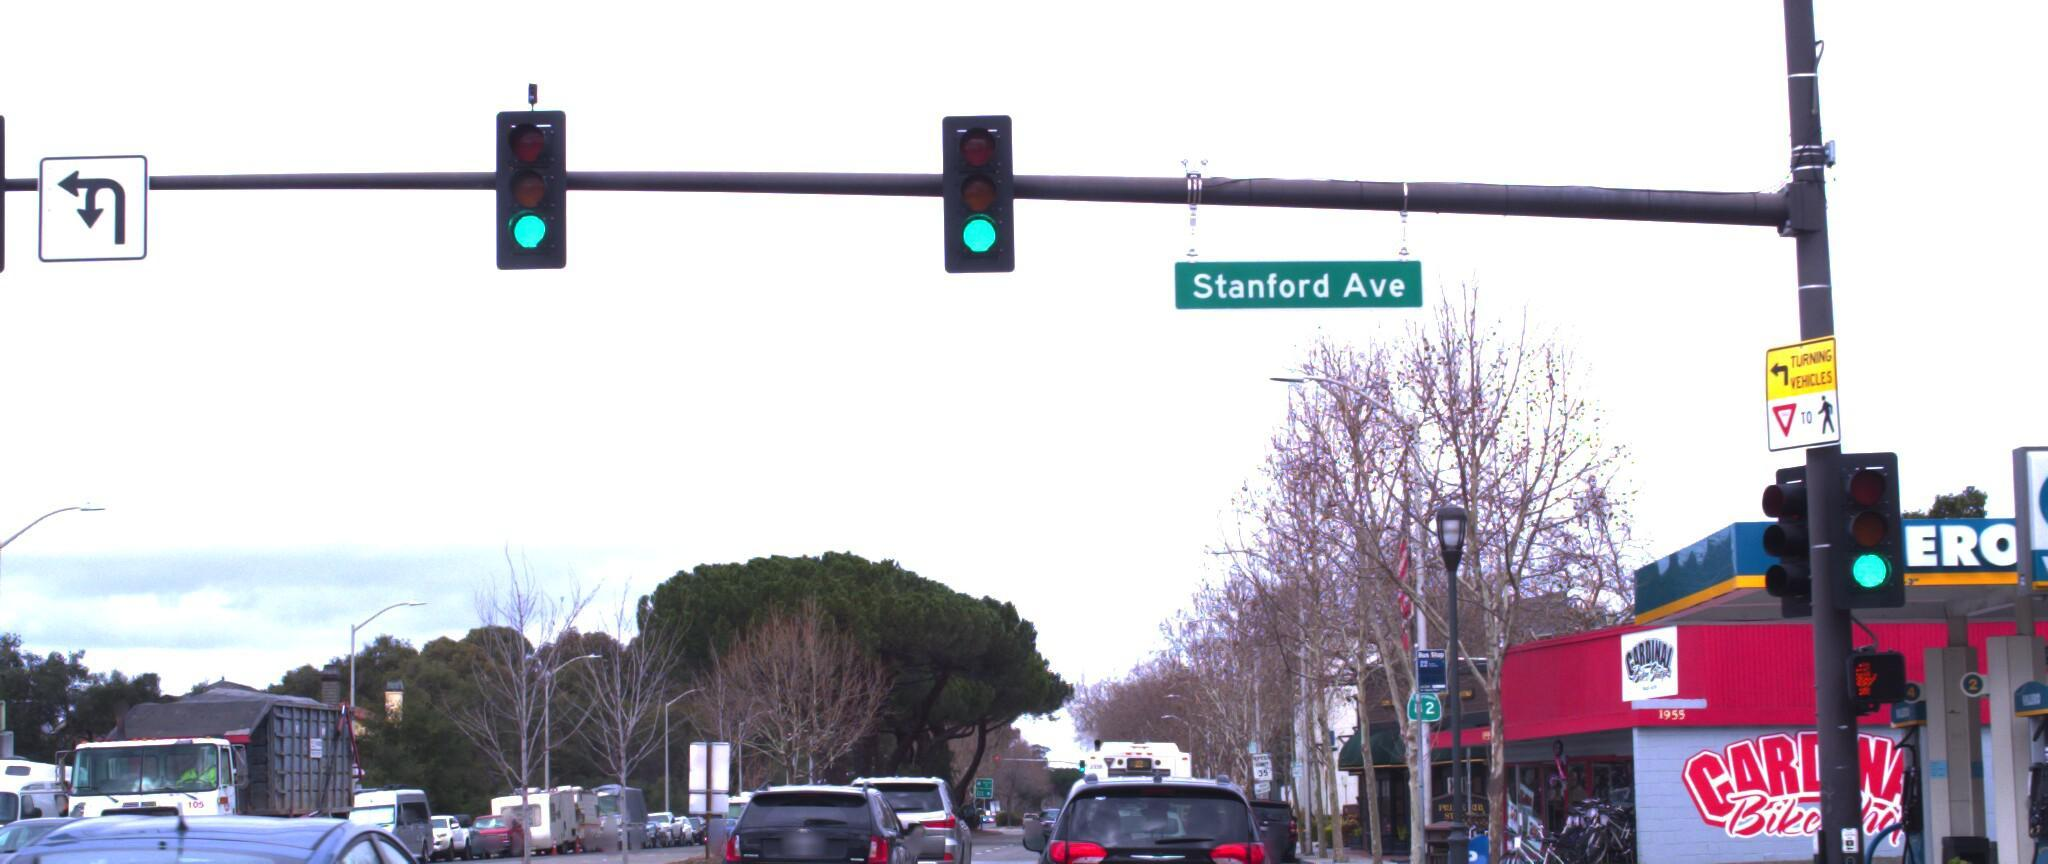bicycle: (1587, 780, 1684, 848), (1490, 807, 1592, 864)
car: (0, 773, 515, 864), (1021, 743, 1283, 864), (714, 753, 923, 864), (0, 733, 125, 864), (837, 777, 994, 864), (0, 792, 172, 864)
truck: (37, 643, 389, 864), (1078, 707, 1196, 817)
